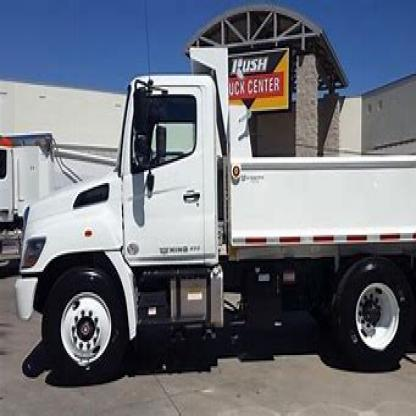dump_truck: (18, 59, 415, 385)
